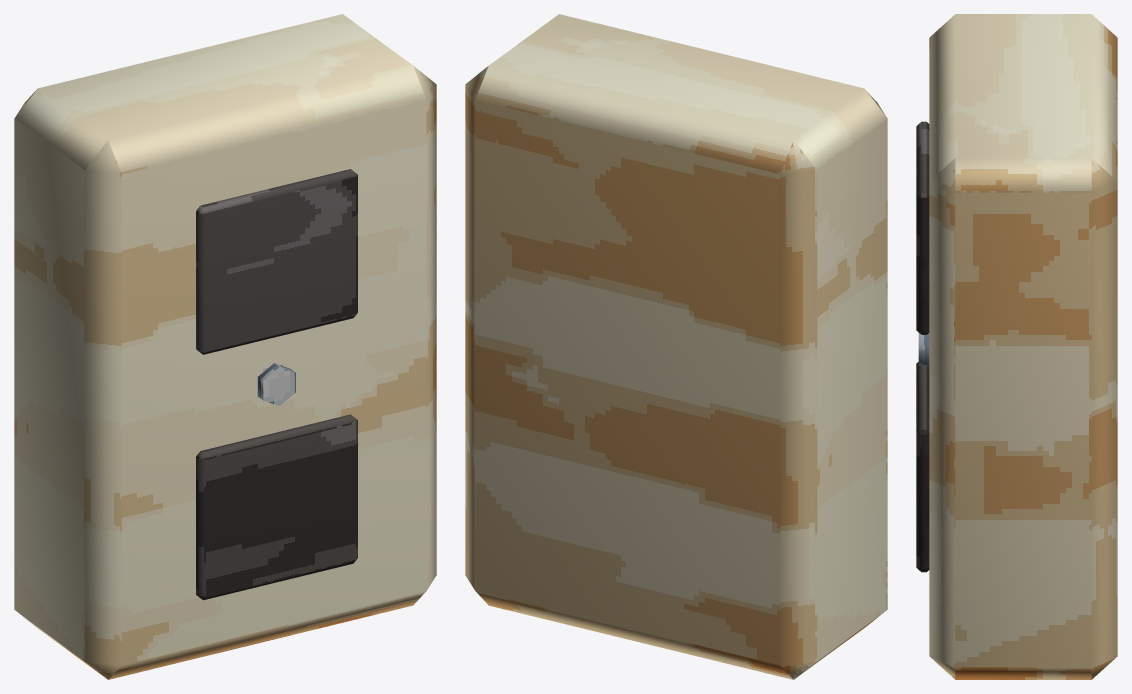
File: gk_outlet.glb
3 renders of one model, left to right at view 1: azimuth 30°, elevation 25°; view 2: azimuth 150°, elevation 25°; view 3: azimuth 270°, elevation 25°, orthographic. The views are drawn at different scales.
Parts seen in each view (by area): view 1: mesh; view 2: mesh; view 3: mesh.
Part boxes in pixels (x1,y1,x2,y2): mesh: [14, 14, 436, 679]; mesh: [465, 14, 887, 679]; mesh: [916, 14, 1117, 679].
Bounding box in the file's own units: 0.075 × 0.11 × 0.0385.
Materials: 1 (1 with a texture image).
